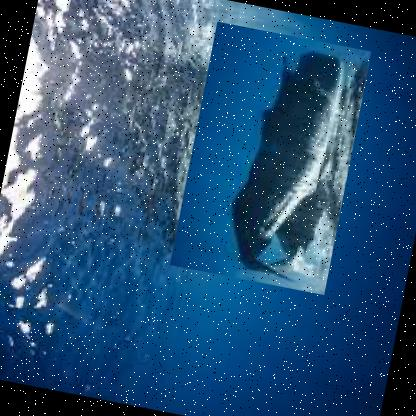sperm_whale: (168, 21, 371, 296)
